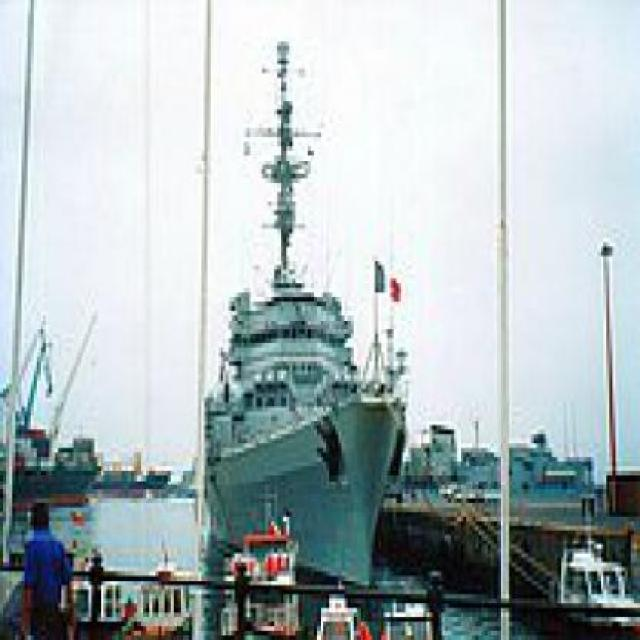warship2: (211, 33, 403, 587)
